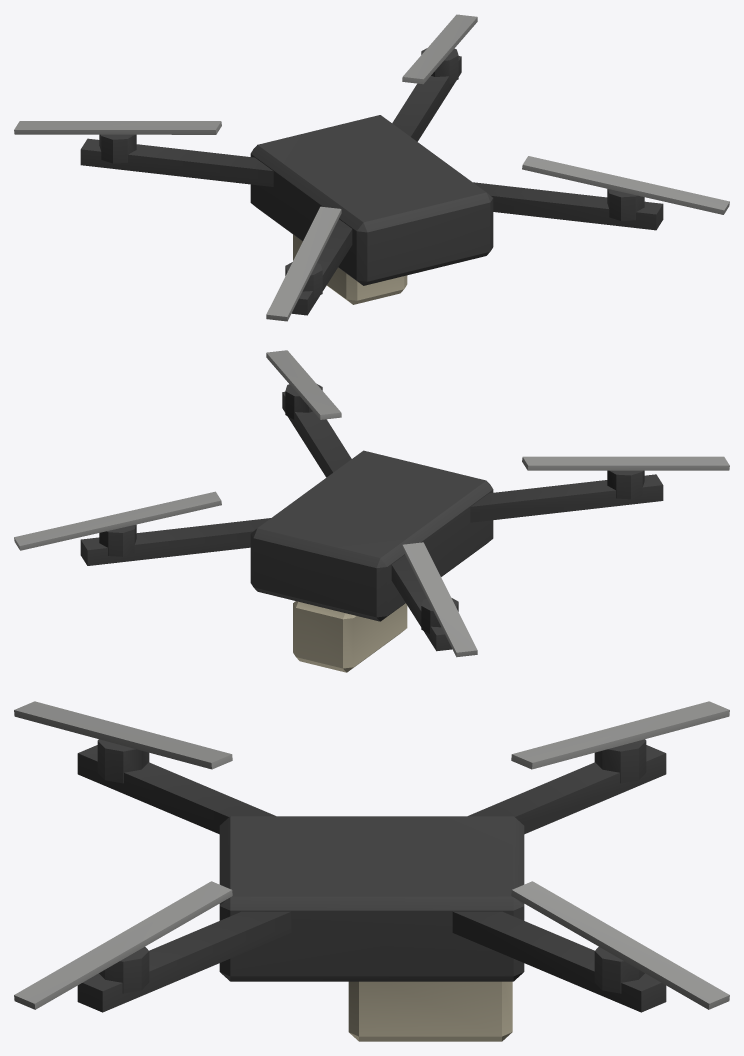
Rendered from fpv_rus.glb.
3 views of the same model, one above another, from view 1: azimuth 30°, elevation 25°; view 2: azimuth 150°, elevation 25°; view 3: azimuth 270°, elevation 25° (orthographic). The views are drawn at different scales.
Visible parts, largest first — view 1: body, propz_3, propz_1, propz_2, propz_0; view 2: body, propz_0, propz_2, propz_1, propz_3; view 3: body, propz_0, propz_3, propz_1, propz_2.
Boxes of the visible parts, bbox=[...] form: body: bbox=[80, 48, 663, 315]; propz_3: bbox=[522, 156, 729, 214]; propz_1: bbox=[14, 121, 221, 134]; propz_2: bbox=[266, 206, 341, 321]; propz_0: bbox=[402, 14, 477, 84]; body: bbox=[80, 384, 663, 672]; propz_0: bbox=[14, 491, 221, 550]; propz_2: bbox=[522, 456, 729, 470]; propz_1: bbox=[402, 542, 477, 657]; propz_3: bbox=[266, 350, 341, 419]; body: bbox=[77, 739, 666, 1041]; propz_0: bbox=[511, 881, 729, 1009]; propz_3: bbox=[14, 881, 232, 1009]; propz_1: bbox=[511, 701, 729, 769]; propz_2: bbox=[14, 701, 232, 769].
Size of the model in its own units: 0.4631 by 0.1458 by 0.4631.
